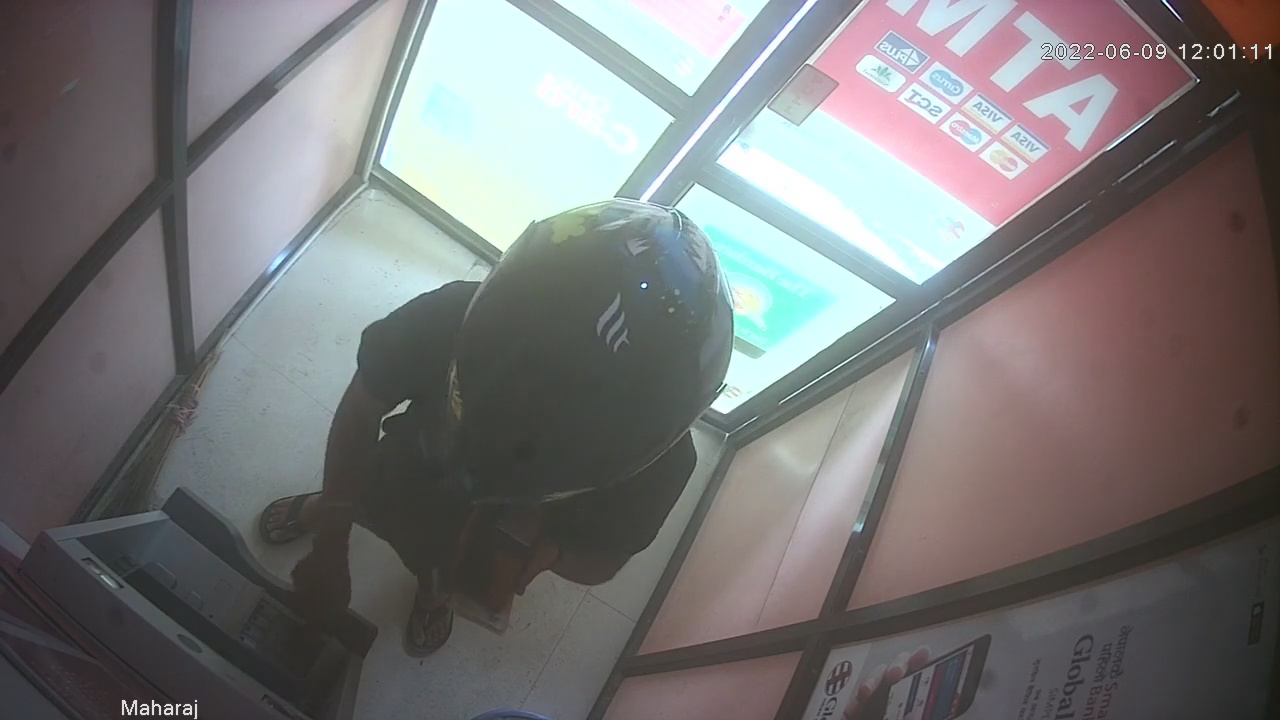helmet: (442, 198, 735, 511)
person: (258, 195, 735, 664)
